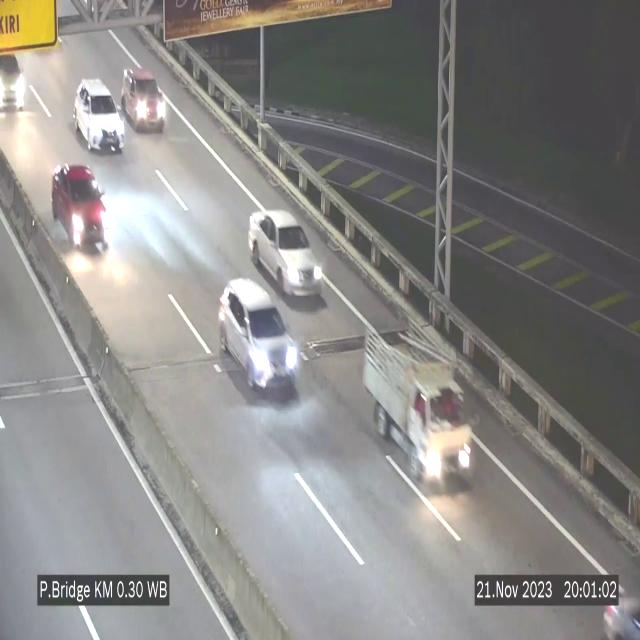Car: (218, 278, 304, 389), (248, 209, 322, 300), (50, 158, 116, 260), (120, 59, 167, 142), (74, 78, 125, 151), (0, 49, 33, 115)
Truck: (361, 322, 475, 492)
